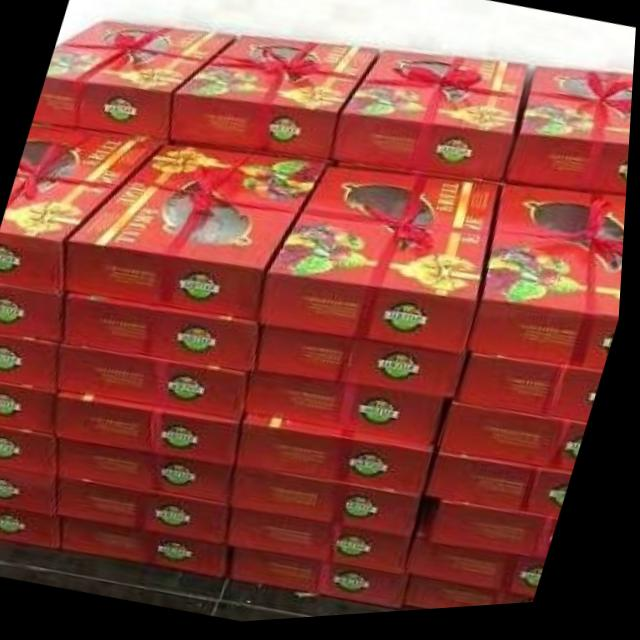box: (67, 142, 327, 323), (261, 170, 503, 359), (472, 189, 629, 378), (0, 124, 168, 292), (330, 57, 527, 192), (170, 40, 380, 166), (35, 23, 235, 141), (241, 413, 438, 503), (506, 73, 635, 202), (65, 293, 264, 373), (260, 330, 471, 405), (250, 376, 452, 453), (62, 390, 250, 470), (238, 473, 431, 548), (60, 348, 255, 421), (60, 436, 240, 509), (231, 547, 419, 615), (232, 511, 419, 579), (64, 475, 232, 546), (66, 516, 233, 582), (460, 359, 606, 429), (431, 457, 578, 526), (444, 408, 590, 476), (416, 502, 564, 567), (412, 544, 550, 607), (413, 581, 541, 616), (0, 285, 72, 344), (0, 378, 62, 436), (0, 333, 63, 388), (0, 464, 63, 515), (0, 502, 67, 549), (0, 425, 61, 475)
